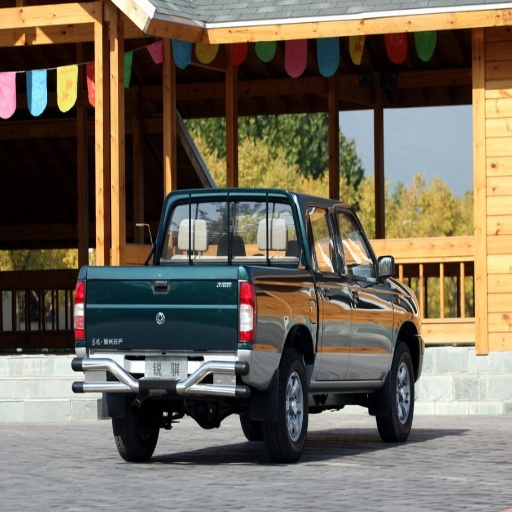back_right_door: (310, 205, 352, 380)
trunk: (90, 258, 321, 391)
